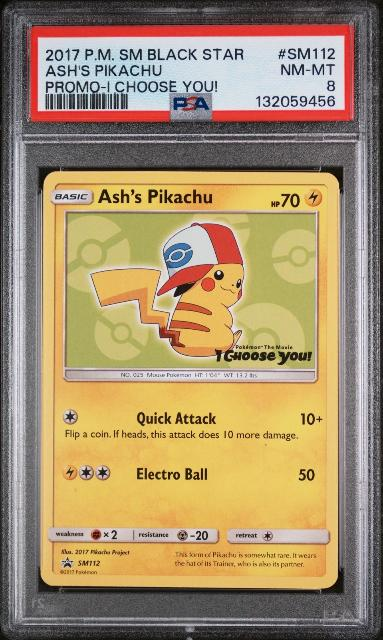Card: (37, 166, 344, 595)
Name: (95, 183, 220, 209)
